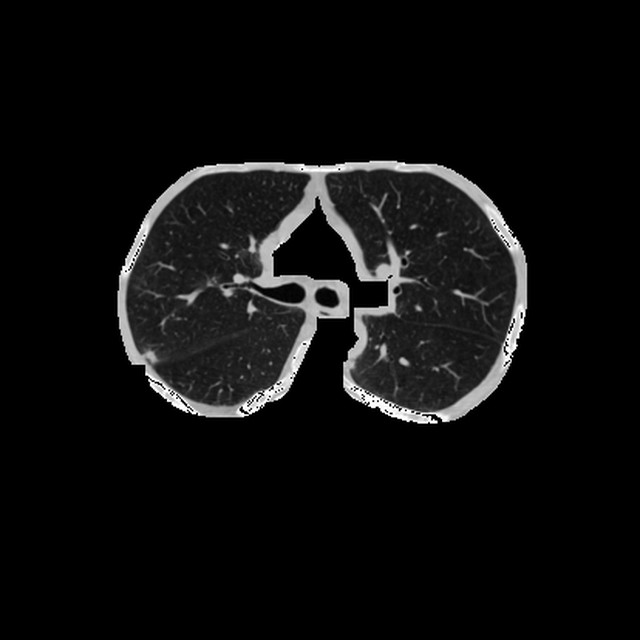PN: (144, 349, 156, 362)
